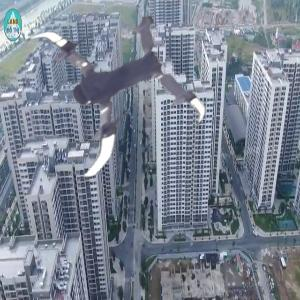drone: (17, 1, 193, 177)
